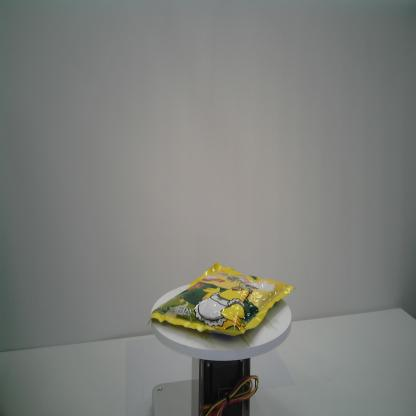Seasoner: (146, 260, 297, 338)
